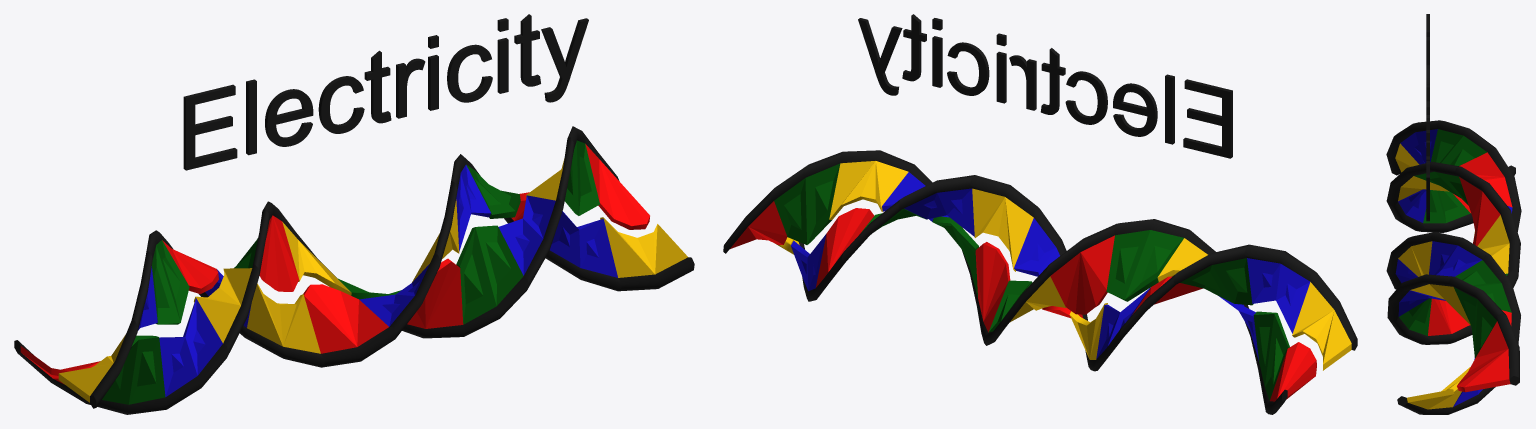
Rendered from Gene_Electricity.FBX.
The picture shows the model from 3 angles, left to right: view 1: azimuth 30°, elevation 25°; view 2: azimuth 150°, elevation 25°; view 3: azimuth 270°, elevation 25°; orthographic projection. The views are drawn at different scales.
Parts seen in each view (by area): view 1: Group002, Text002; view 2: Group002, Text002; view 3: Group002, Text002.
Part boxes in pixels (box(x1,y1,x2,y2)): Group002: box(14, 126, 694, 414); Text002: box(183, 14, 588, 170); Group002: box(723, 150, 1357, 414); Text002: box(858, 14, 1232, 158); Group002: box(1386, 120, 1521, 414); Text002: box(1426, 14, 1429, 221).
Size of the model in its own units: 140 by 36.03 by 69.6.
